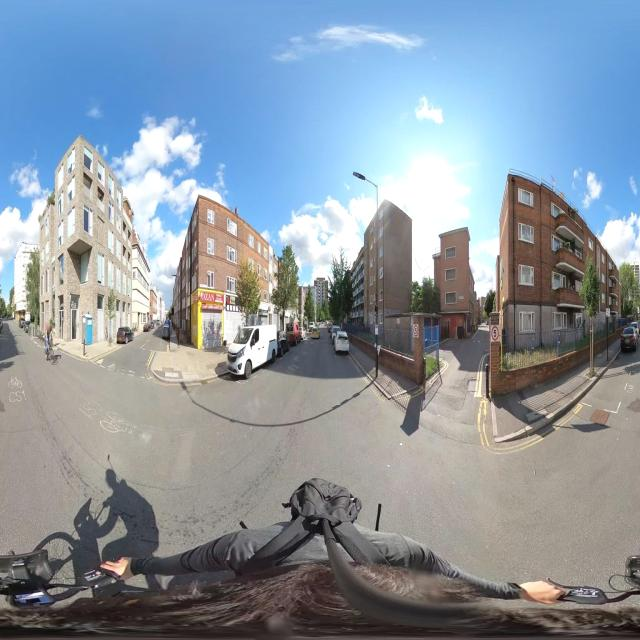car: (226, 324, 272, 378), (620, 325, 638, 353), (334, 332, 350, 356), (285, 320, 297, 346), (278, 329, 290, 352), (116, 326, 132, 343), (294, 321, 304, 341), (330, 324, 340, 340), (162, 322, 171, 339), (311, 325, 320, 340), (142, 322, 152, 332)
